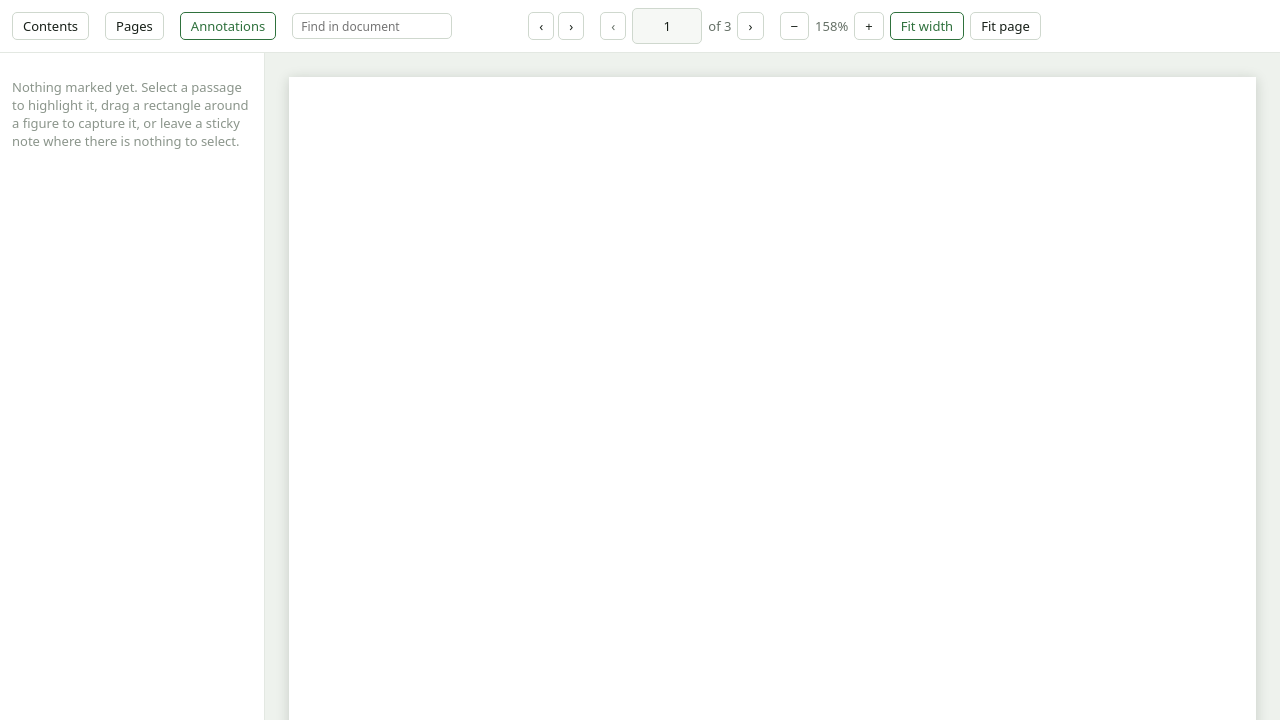
Scenario: pdf reader › shows the document's own contents list and jumps from it
The width and height of the screenshot is (1280, 720).
Expected: the text "of 3" is shown, [708,17,732,35]
Click the button "Contents". click: (51, 26)
box: [12,12,89,40]
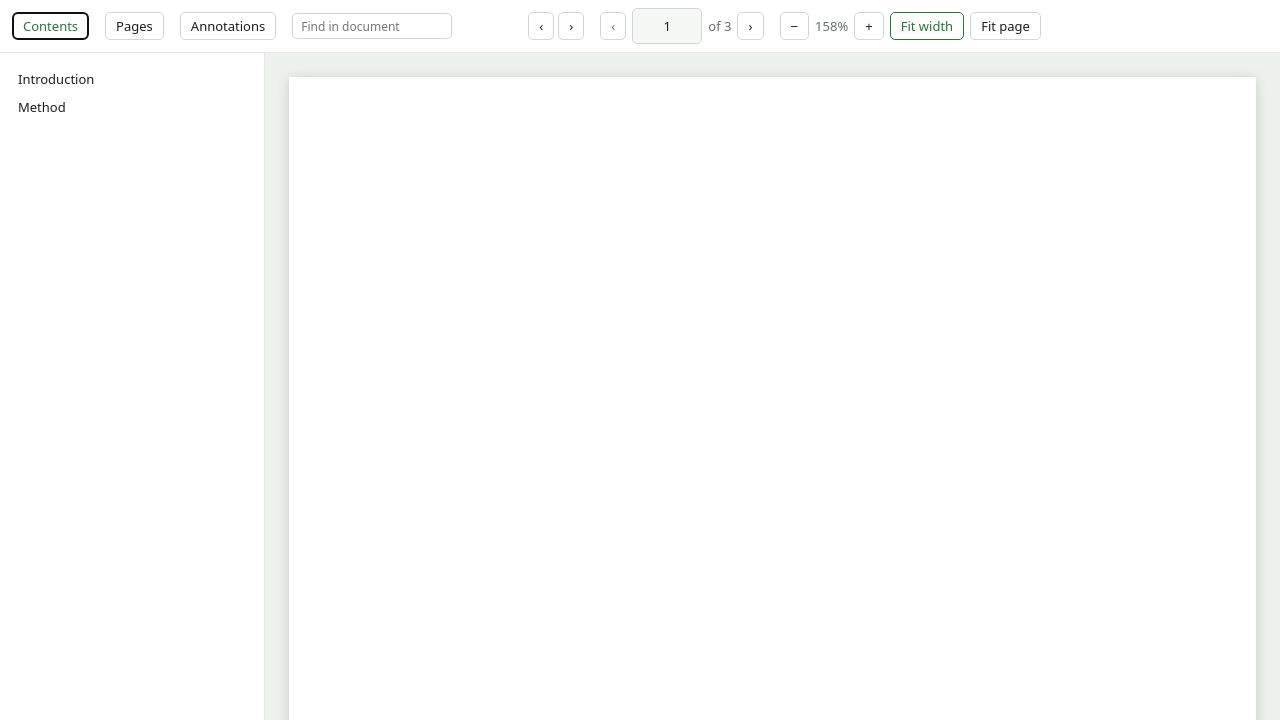
Click the button "Method". click: (132, 107)
box: [12,93,252,121]
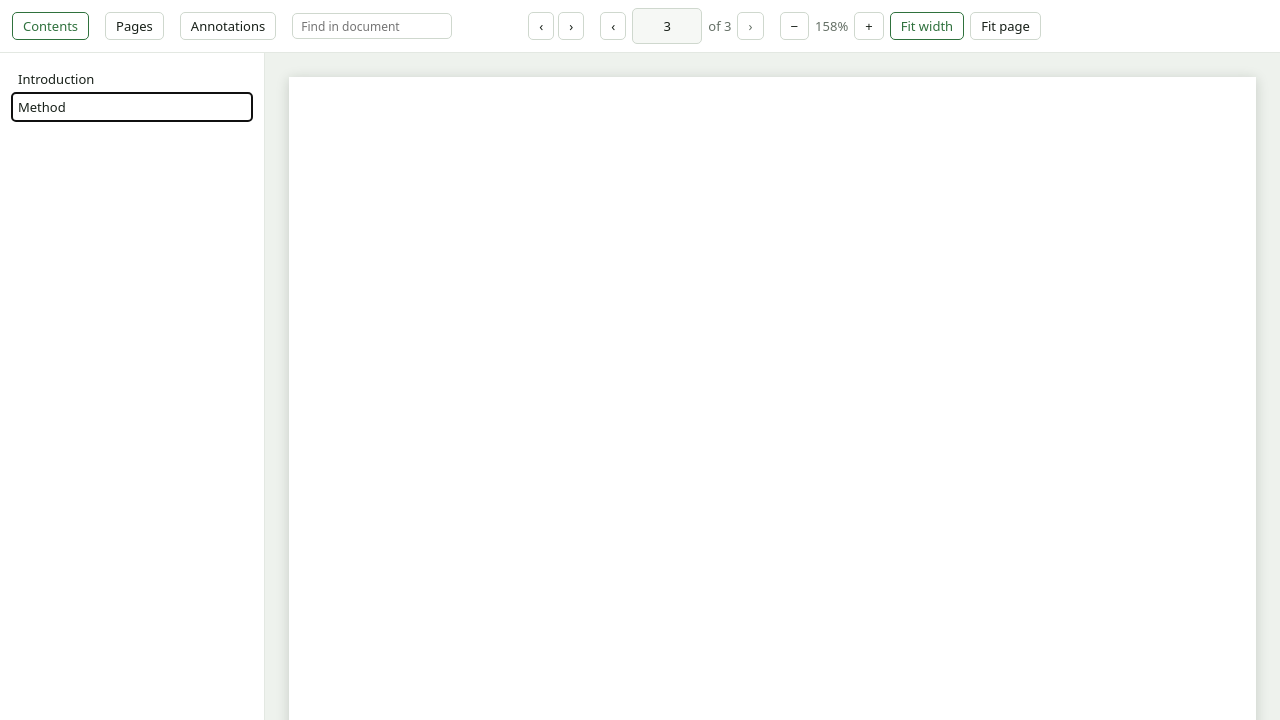
Expected: the field named "Page" holds "3", [632,8,702,44]
